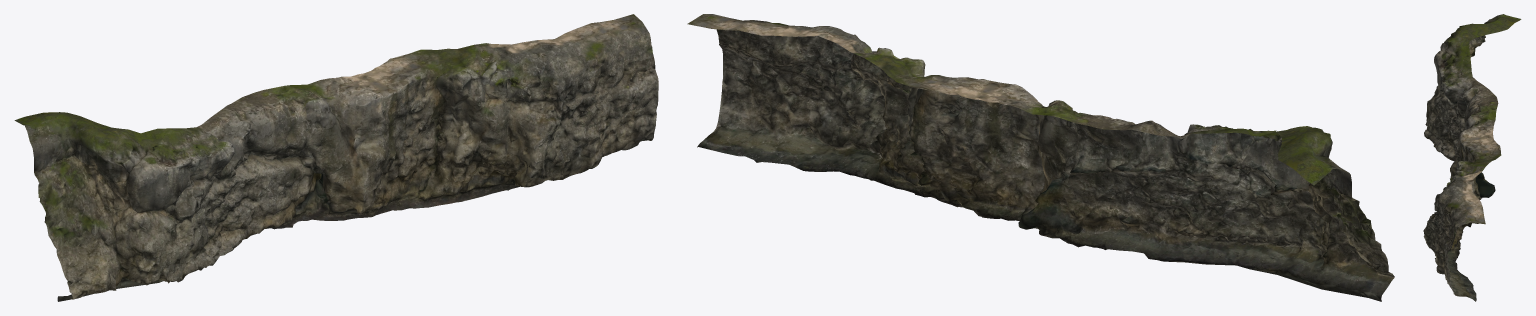
File: coastal_cliff_02.glb
3 views of the same model, side by side, from view 1: azimuth 30°, elevation 25°; view 2: azimuth 150°, elevation 25°; view 3: azimuth 270°, elevation 25° (orthographic). The views are drawn at different scales.
Visible parts, largest first — view 1: coastal_cliff_02_LOD0; view 2: coastal_cliff_02_LOD0; view 3: coastal_cliff_02_LOD0.
Part boxes in pixels (bbox=[...]): coastal_cliff_02_LOD0: bbox=[14, 14, 658, 301]; coastal_cliff_02_LOD0: bbox=[687, 14, 1394, 301]; coastal_cliff_02_LOD0: bbox=[1423, 14, 1521, 301].
Size of the model in its own units: 40.93 by 10.03 by 8.65.
1 material, 1 textured.
